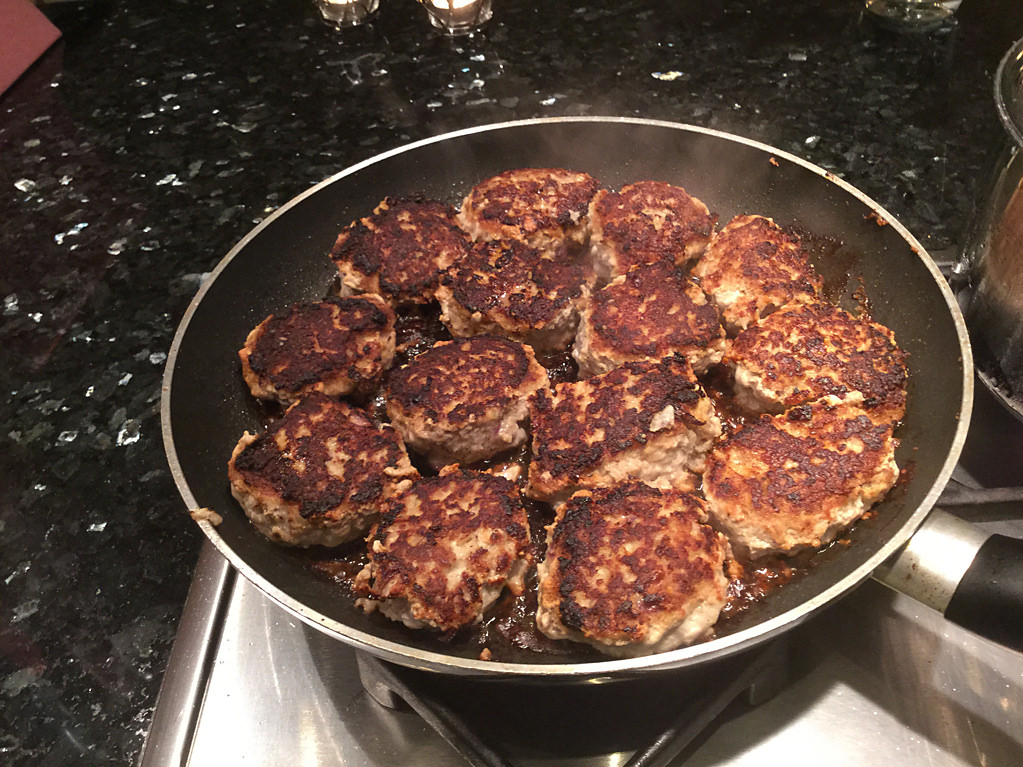meatballs: (272, 184, 860, 608), (501, 364, 700, 488)
